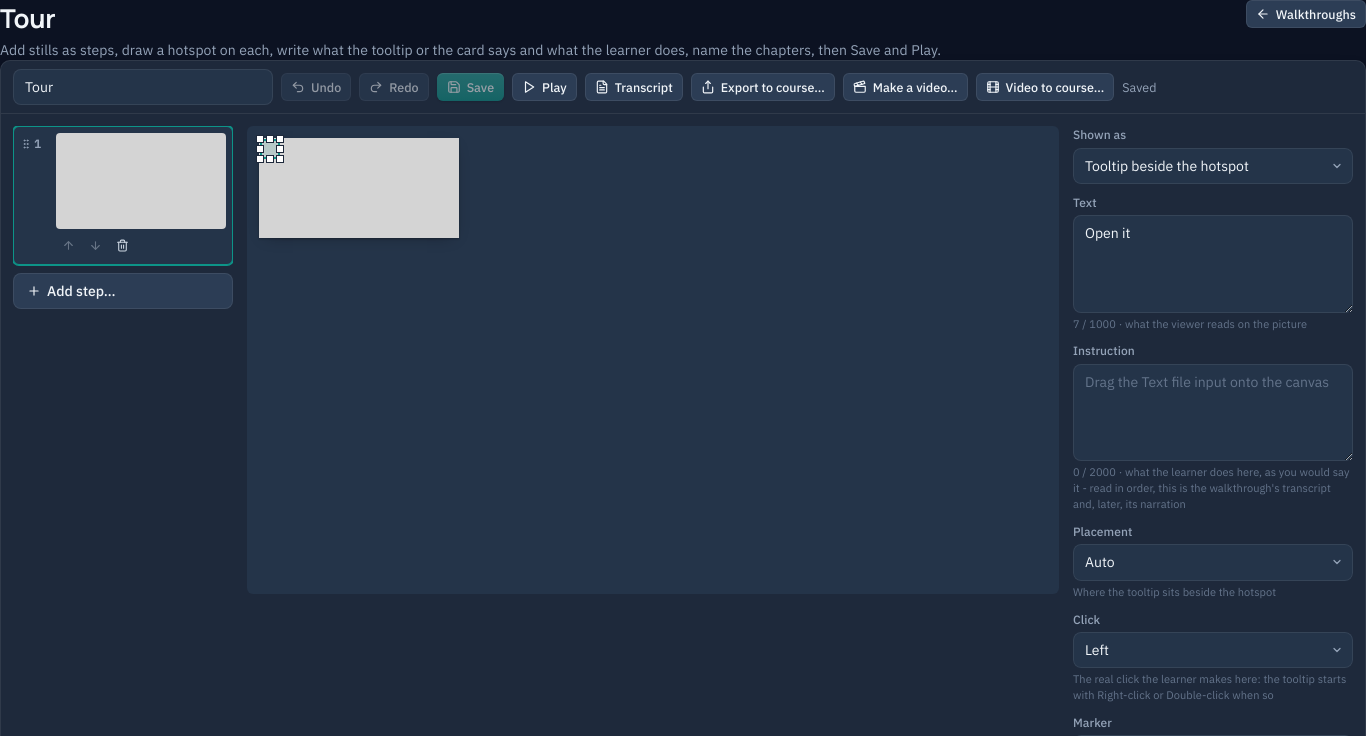
it: Make a video… › is in the toolbar after Export to course… and opens the dialog, saving nothing
Click the button "Make a video…" at x=905, y=87, box top-left (843, 73), bottom-right (968, 101)
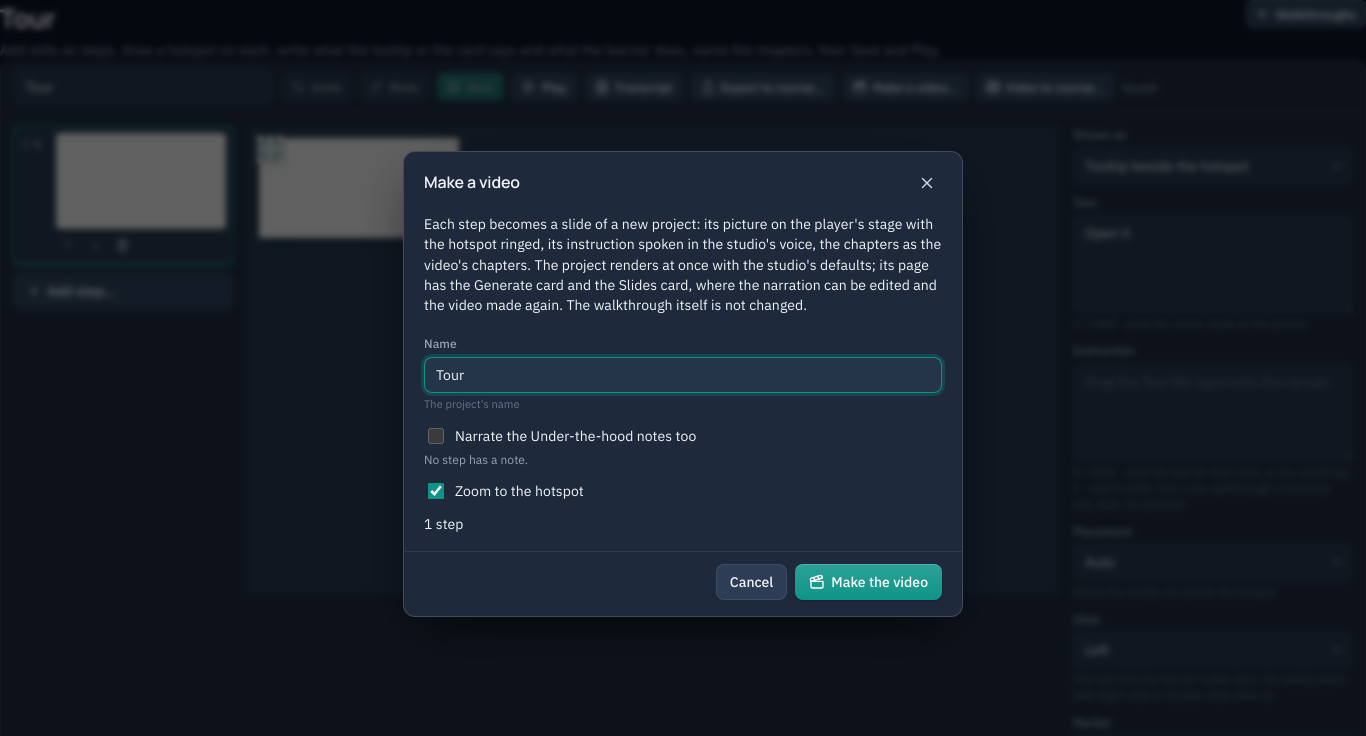
Result: the button "Make the video" is shown at top-left (795, 564), bottom-right (942, 600)
Result: the field labelled "Name The project's name" holds "Tour" at top-left (424, 357), bottom-right (942, 393)
